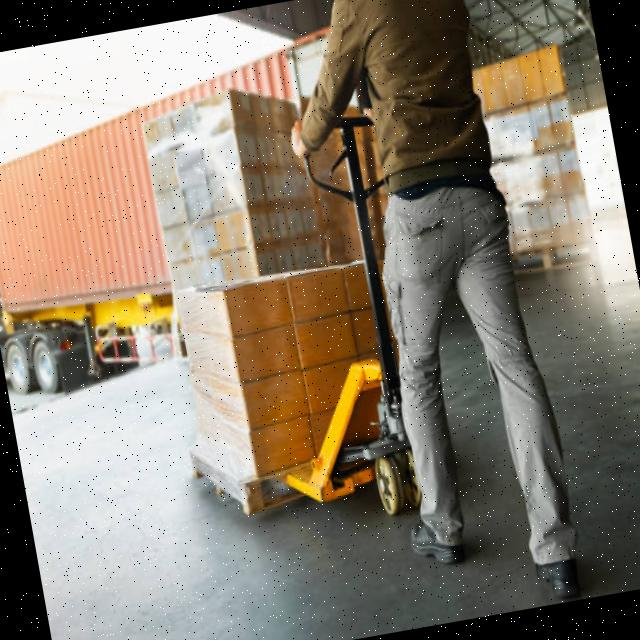Wooden-Pallets: (187, 458, 304, 527)
